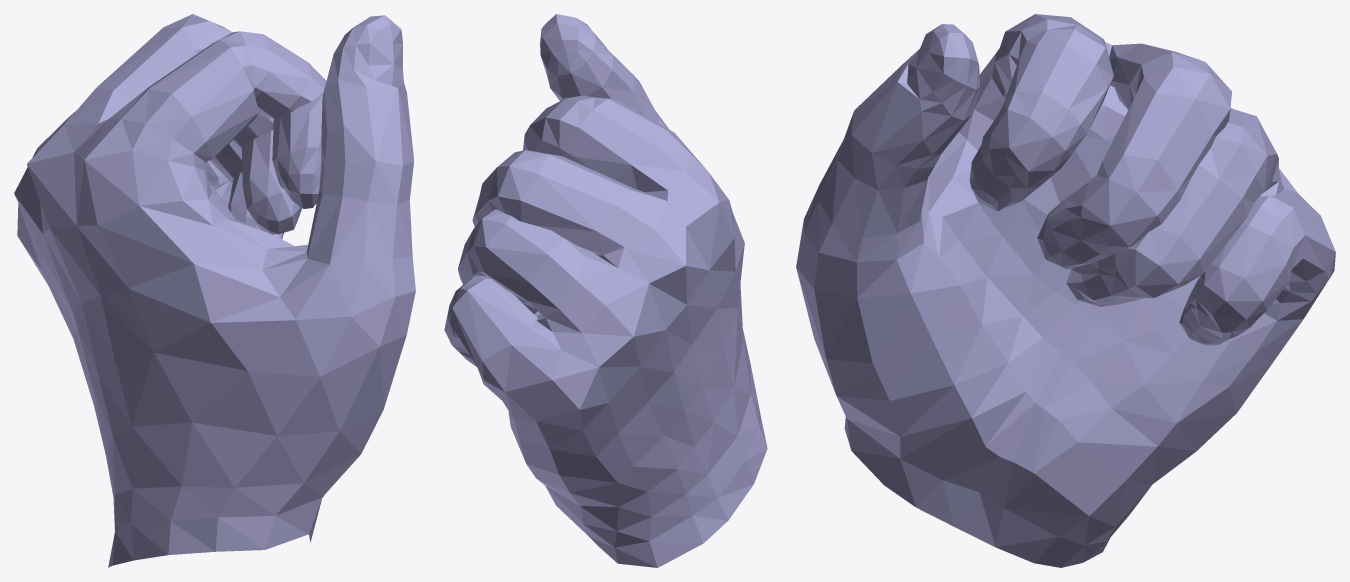
File: frame_0045_source_000045_hand.glb
The picture shows the model from 3 angles, left to right: view 1: azimuth 30°, elevation 25°; view 2: azimuth 150°, elevation 25°; view 3: azimuth 270°, elevation 25°; orthographic projection. The views are drawn at different scales.
Parts seen in each view (by area): view 1: world; view 2: world; view 3: world.
Boxes of the visible parts, x1=… form: world: x1=14, y1=14, x2=415, y2=567; world: x1=444, y1=14, x2=767, y2=567; world: x1=796, y1=14, x2=1335, y2=567.
Bounding box in the file's own units: 0.0616 × 0.1215 × 0.1.
